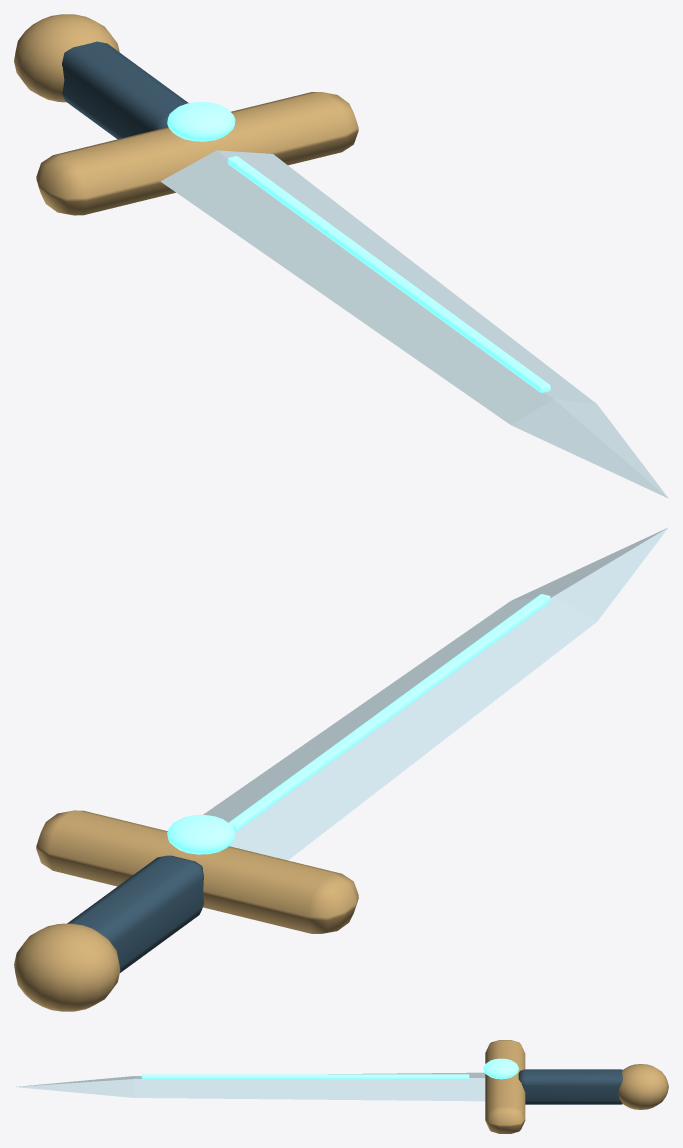
The model's file is aether_sword.glb.
3 views of the same model, one above another, from view 1: azimuth 30°, elevation 25°; view 2: azimuth 150°, elevation 25°; view 3: azimuth 270°, elevation 25° (orthographic). The views are drawn at different scales.
Parts seen in each view (by area): view 1: aether_blade_mesh, guard, grip, blade_channel, pommel, guard_jewel; view 2: aether_blade_mesh, guard, grip, pommel, blade_channel, guard_jewel; view 3: aether_blade_mesh, grip, guard, blade_channel, pommel, guard_jewel.
Part boxes in pixels (x1,y1,x2,y2): aether_blade_mesh: (160, 150, 668, 498); guard: (36, 92, 358, 215); grip: (62, 41, 188, 139); blade_channel: (227, 156, 550, 392); pommel: (14, 14, 119, 102); guard_jewel: (167, 102, 235, 141); aether_blade_mesh: (203, 527, 668, 860); guard: (36, 810, 358, 933); grip: (67, 855, 203, 972); pommel: (14, 923, 120, 1011); blade_channel: (228, 594, 550, 830); guard_jewel: (167, 815, 235, 854); aether_blade_mesh: (16, 1072, 485, 1101); grip: (518, 1069, 622, 1104); guard: (485, 1040, 525, 1133); blade_channel: (141, 1074, 469, 1079); pommel: (618, 1064, 668, 1109); guard_jewel: (483, 1058, 518, 1079).
Bounding box in the file's own units: 0.46 × 0.125 × 1.64.
